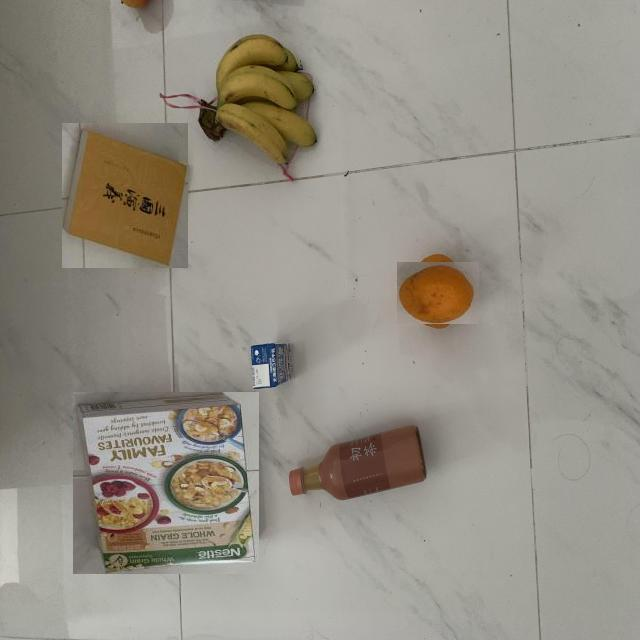Banana: (198, 34, 325, 166)
Book: (61, 122, 188, 268)
Cerealbox: (74, 391, 259, 574)
Orange: (398, 261, 479, 324)
